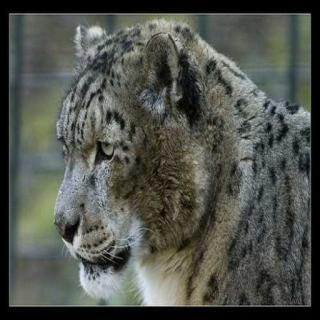Leopard: (31, 13, 314, 303)
